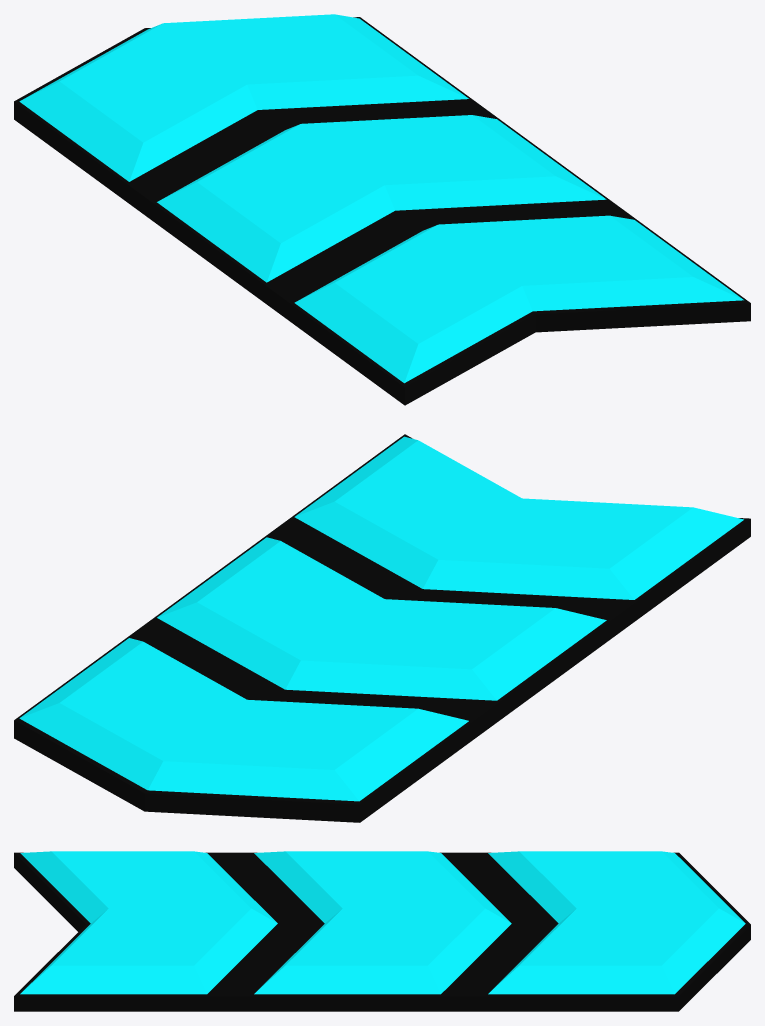
File: arrows-unlit2.glb
The picture shows the model from 3 angles, top to bottom: view 1: azimuth 30°, elevation 25°; view 2: azimuth 150°, elevation 25°; view 3: azimuth 270°, elevation 25°; orthographic projection. The views are drawn at different scales.
Visible parts, largest first — view 1: Cube, Cube.001; view 2: Cube, Cube.001; view 3: Cube, Cube.001.
Boxes of the visible parts, <box> form: Cube: <box>19,14,743,383</box>; Cube.001: <box>14,17,750,405</box>; Cube: <box>19,436,743,801</box>; Cube.001: <box>14,434,750,822</box>; Cube: <box>20,851,745,994</box>; Cube.001: <box>14,852,750,1011</box>.
Size of the model in its own units: 2.03 by 0.2067 by 4.41.
